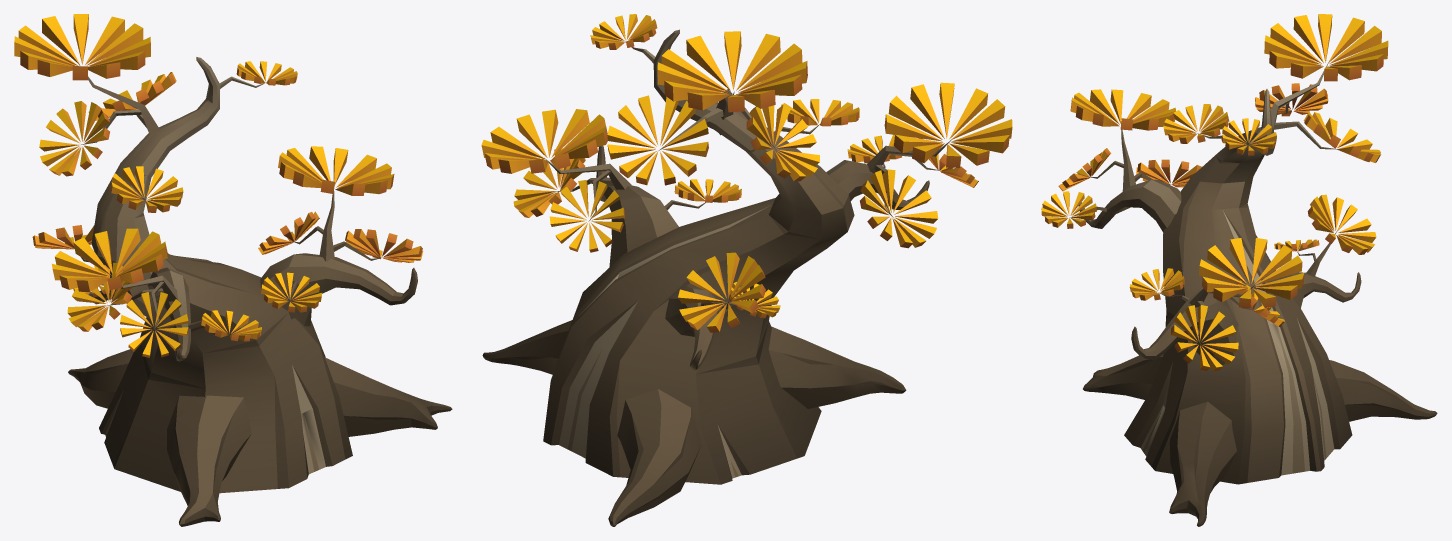
The model's file is ancient_tree_yellow_1.glb.
The picture shows the model from 3 angles, left to right: view 1: azimuth 30°, elevation 25°; view 2: azimuth 150°, elevation 25°; view 3: azimuth 270°, elevation 25°; orthographic projection. The views are drawn at different scales.
Parts seen in each view (by area): view 1: ancient_tree_yellow_1; view 2: ancient_tree_yellow_1; view 3: ancient_tree_yellow_1.
Boxes of the visible parts, box(x1,y1,x2,y2) form: ancient_tree_yellow_1: box(14, 14, 452, 526); ancient_tree_yellow_1: box(481, 14, 1012, 526); ancient_tree_yellow_1: box(1041, 14, 1437, 526).
Size of the model in its own units: 6.88 by 5.98 by 6.01.
Materials: 1 (1 with a texture image).
